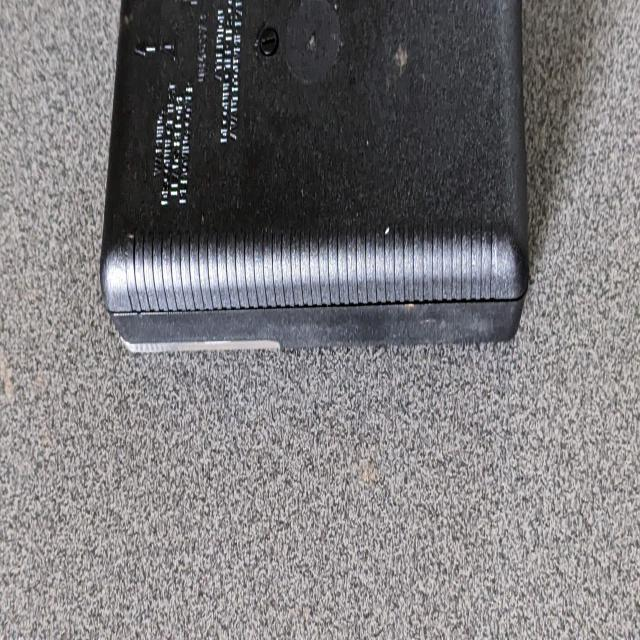Analog Multimeter: (99, 15, 542, 379)
